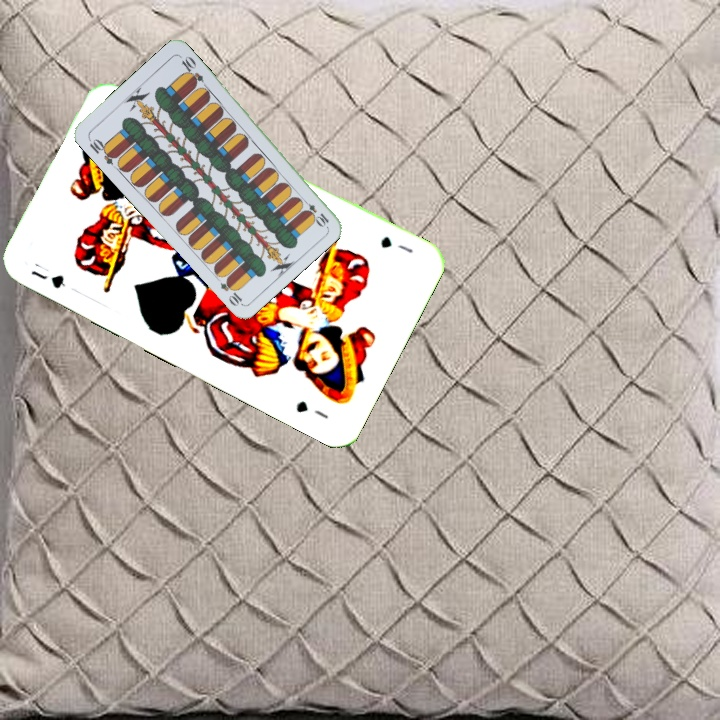E10: (84, 134, 120, 167), (297, 195, 331, 229)
GU: (27, 258, 68, 291), (376, 232, 416, 256)
